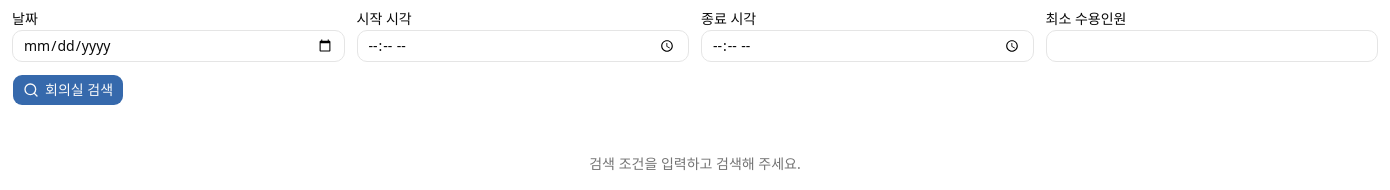
Test: MeetingRoomSearchAndSelect - 빈 결과/에러 › 조회 실패 시 에러 문구와 토스트를 노출한다
This screenshot has width=1390, height=190.
Type "2026-07-10" into the date field labelled "날짜" at (178, 46), box [12,30,344,62]
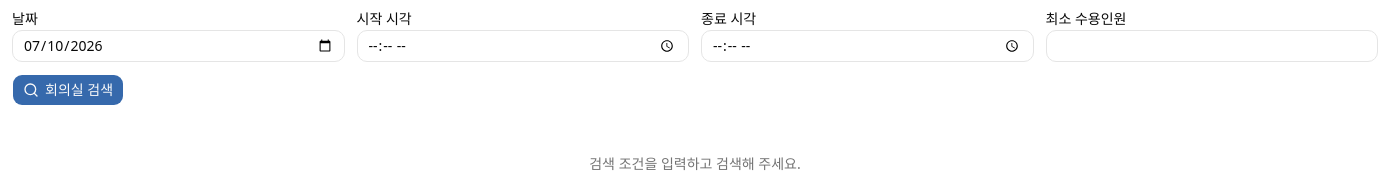
Type "10:00" into the time field labelled "시작 시각" at (523, 46), box [356,30,689,62]
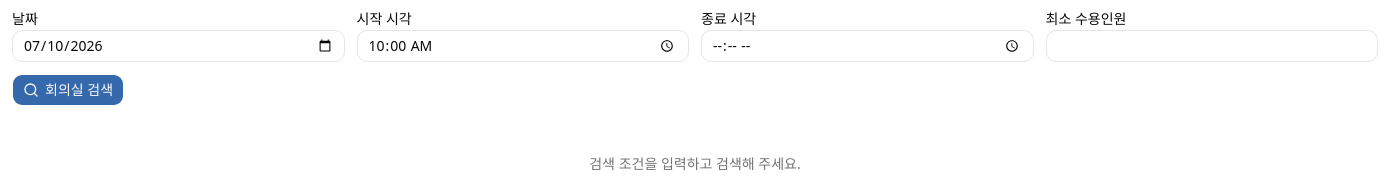
Type "11:00" into the time field labelled "종료 시각" at (867, 46), box [701,30,1034,62]
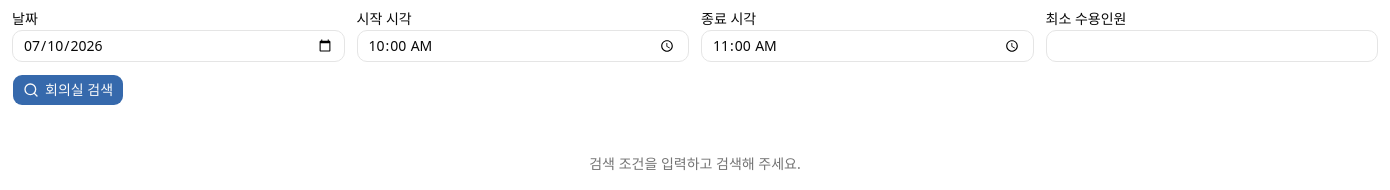
Type "4" into the number field labelled "최소 수용인원" at (1212, 46), box [1046,30,1378,62]
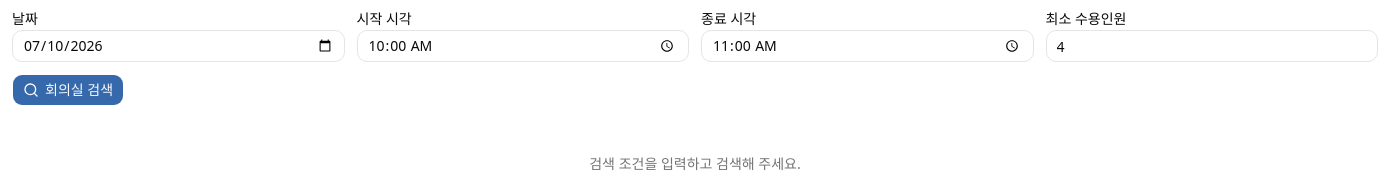
Click the button "회의실 검색" at (68, 90), box [12,74,124,106]
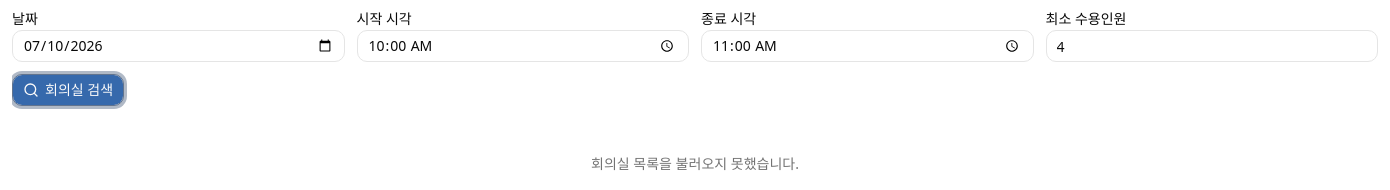
Now the text "회의실 목록을 불러오지 못했습니다." is shown, box [591,154,799,173]
